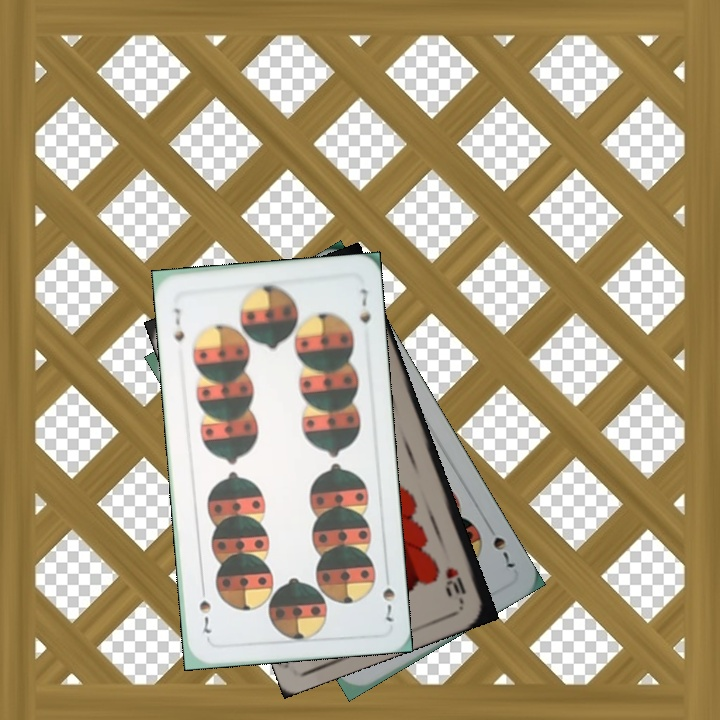H10: (443, 563, 469, 604)
S7: (488, 532, 517, 573), (378, 583, 397, 625), (170, 304, 187, 344)
